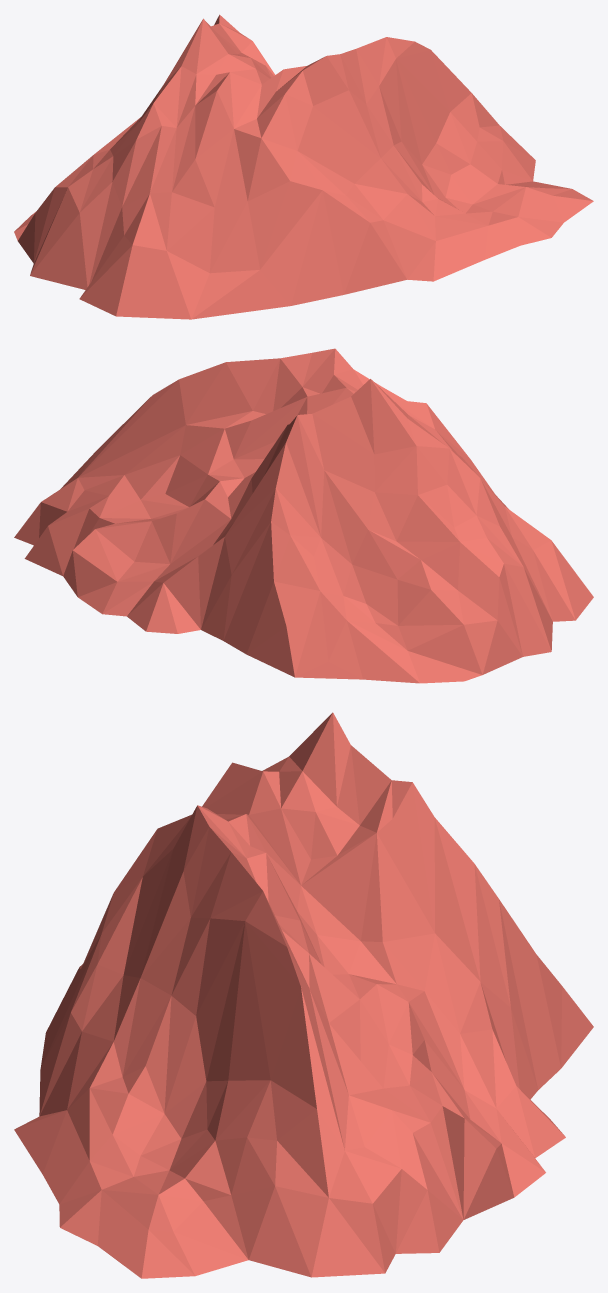
File: Montain_2.glb
3 views of the same model, one above another, from view 1: azimuth 30°, elevation 25°; view 2: azimuth 150°, elevation 25°; view 3: azimuth 270°, elevation 25° (orthographic). The views are drawn at different scales.
Parts seen in each view (by area): view 1: Montain_2; view 2: Montain_2; view 3: Montain_2.
Part boxes in pixels (x1=…): Montain_2: x1=14, y1=14, x2=593, y2=319; Montain_2: x1=14, y1=348, x2=593, y2=683; Montain_2: x1=14, y1=712, x2=593, y2=1278.
Bounding box in the file's own units: 5858 × 2419 × 3903.
